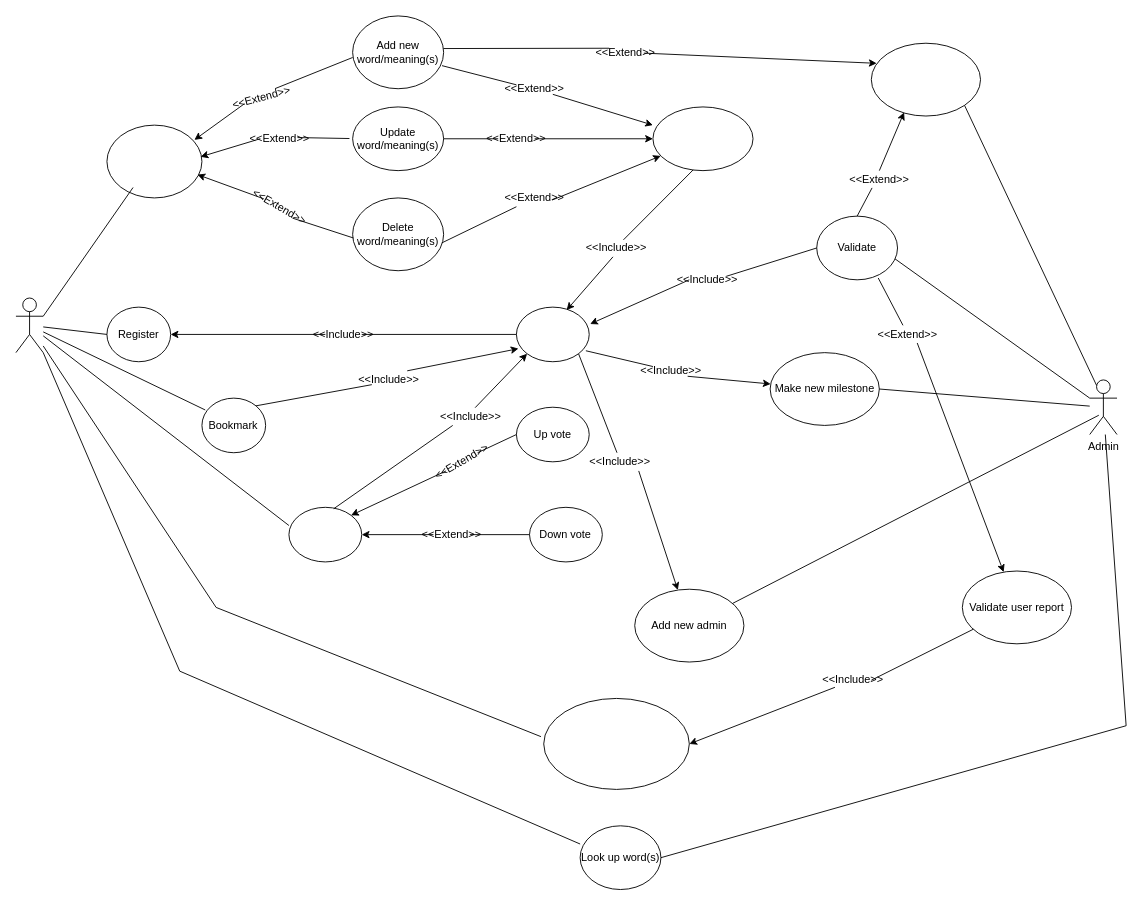
The diagram is 1143 pixels wide and 905 high, and some of its shapes have lost their labels. Here are the shapes that lost their labels. From the top down, the box of each, then its label:
(870, 42, 981, 116): Validate user contribute word(s)
(652, 106, 753, 171): Mange word/meaning(s) (dictionary)
(106, 124, 202, 198): Contribute word/meaning(s) (slang)
(15, 297, 43, 353): User
(516, 306, 589, 362): Login
(288, 506, 362, 562): Vote
(543, 698, 689, 789): Report unappropriated word/meaning(s)
